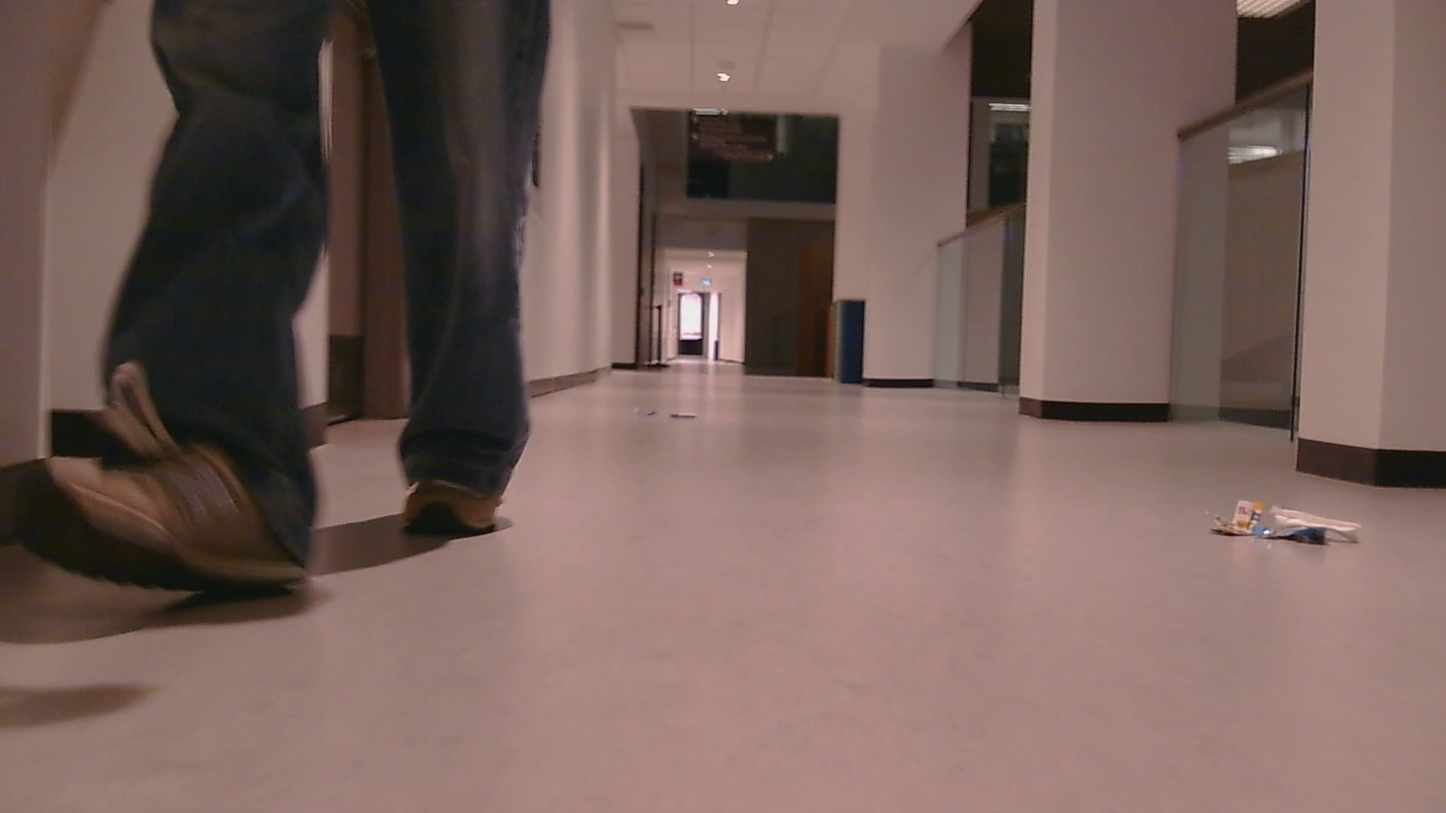carton: (1202, 486, 1380, 564), (666, 405, 698, 433), (630, 397, 658, 419)
